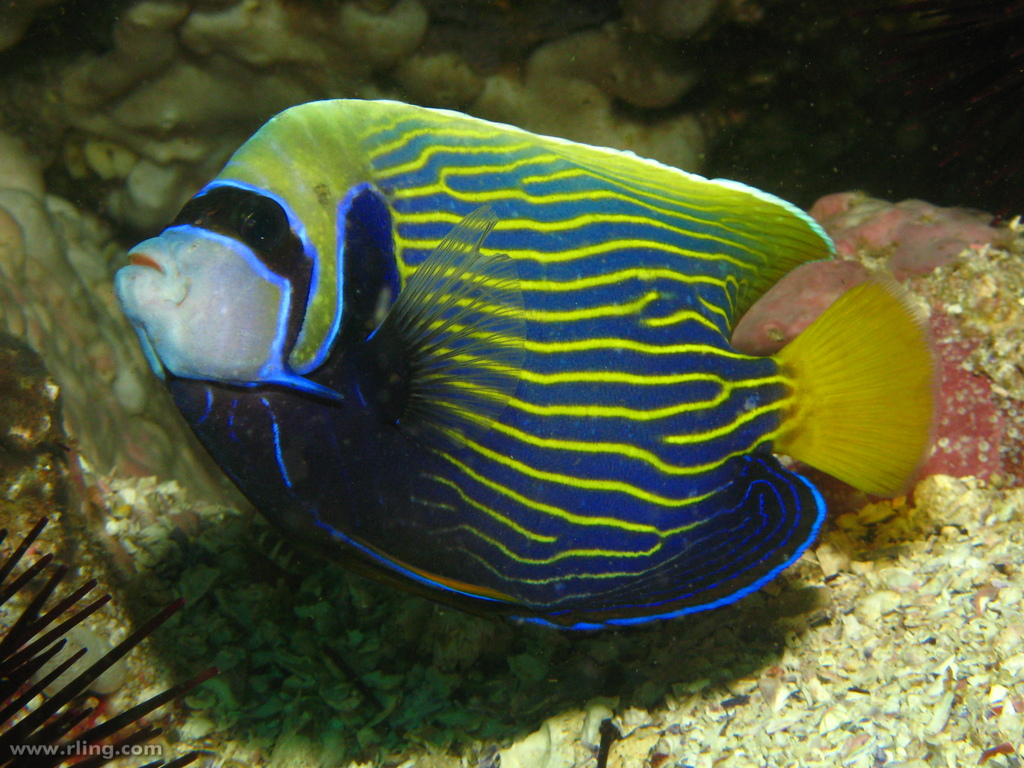Pomacanthus_imperator: (95, 69, 984, 664)
